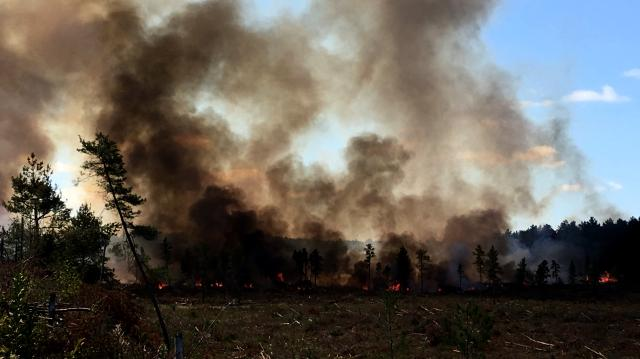fire: (2, 1, 630, 289)
